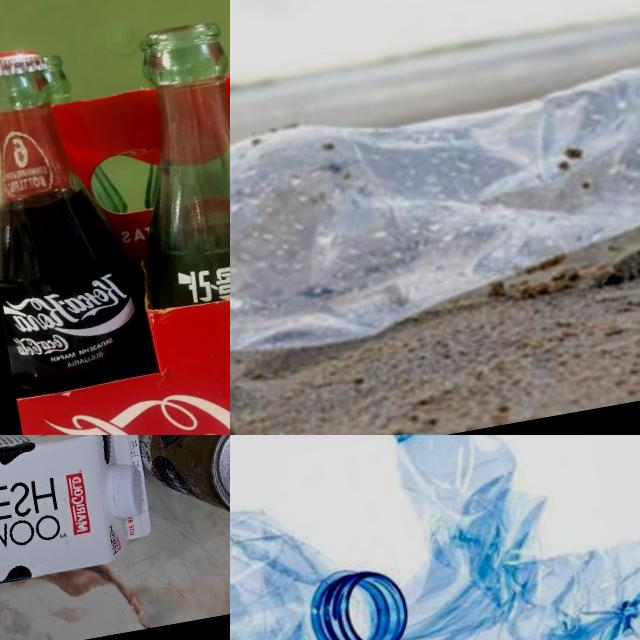caixinha: (0, 435, 161, 635)
garrafa de vidro: (0, 32, 157, 398), (101, 13, 230, 314)
garrafa plástica: (230, 25, 640, 384), (318, 435, 640, 640), (230, 485, 422, 640)
lata: (134, 435, 230, 540)
tampa plástica: (98, 458, 150, 522)
